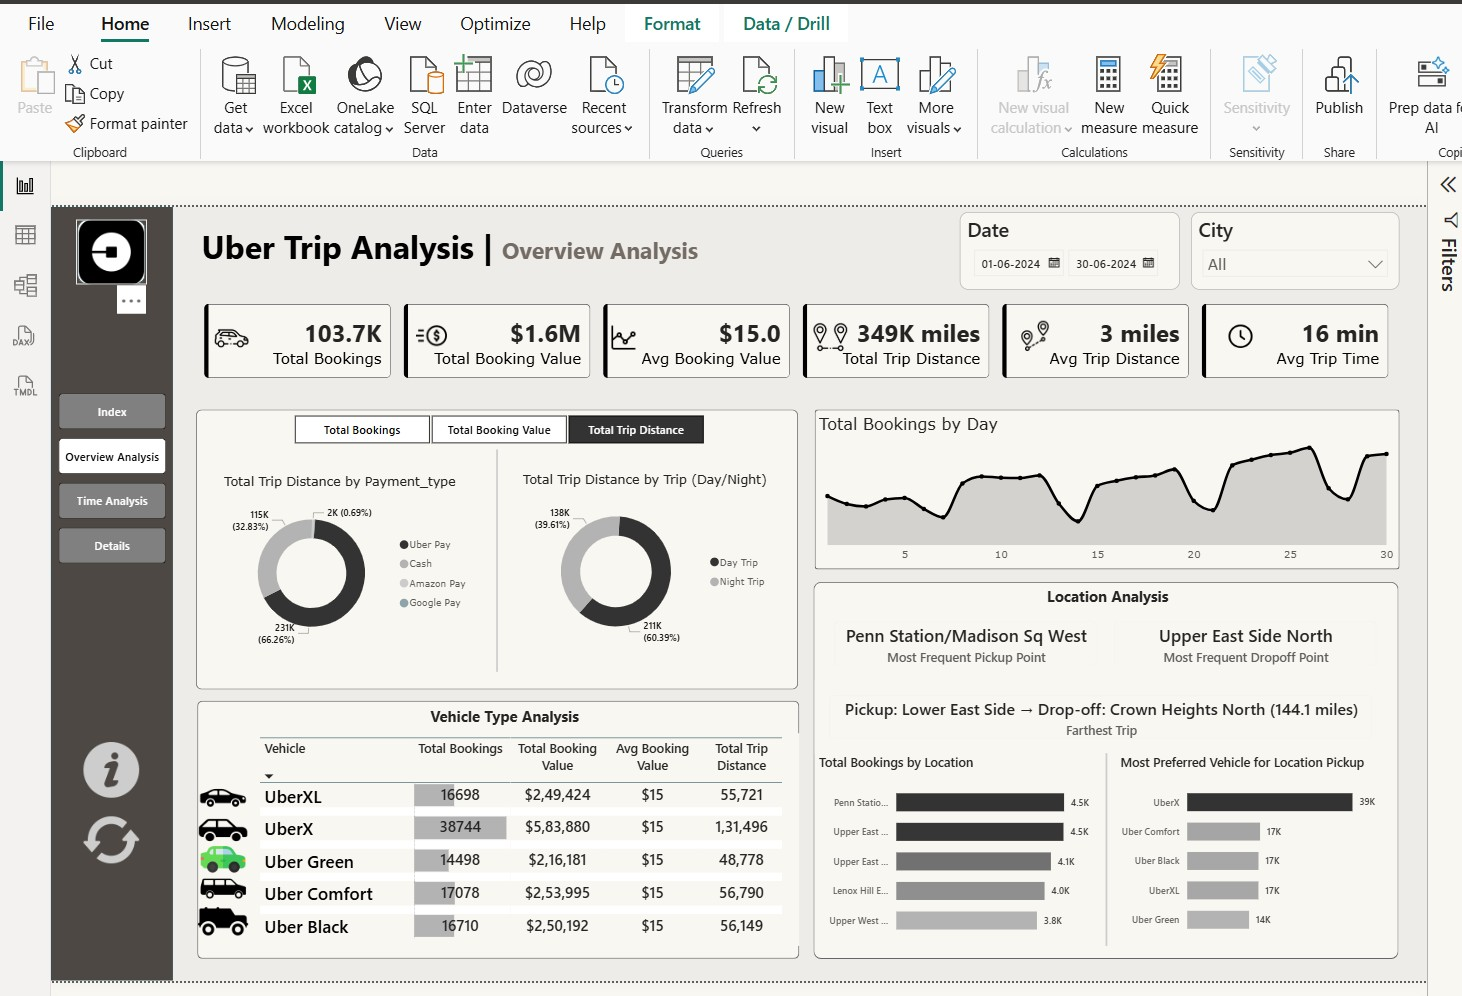

Layout of this report page (visuals, bound fields, positions):
{"tool":"powerbi","page":{"name":"Overview Analysis","canvas":[1600,900],"ordinal":1},"visuals":[{"type":"shape","box":[0,0,141.9,899.5],"z":0},{"type":"textbox","box":[170.1,16,613.4,79.9],"z":1000},{"type":"cardVisual","fields":{"Data":["Key Measures.Total Bookings","Key Measures.Total Booking Value","Key Measures.Avg Booking Amount","Key Measures.Total Trip Distance","Key Measures.Avg Trip Distance","Key Measures.Avg Trip Time"]},"box":[161.3,95.9,1415.7,120.6],"z":2000},{"type":"image","box":[424.4,123.5,36.3,52.3],"z":3000},{"type":"image","box":[886.6,122.1,39.2,58.1],"z":4000},{"type":"image","box":[1100.3,132.3,90.1,34.9],"z":5000},{"type":"image","box":[1369.2,127.9,27.6,45.1],"z":6000},{"type":"image","box":[649.7,129.4,32,45.1],"z":7000},{"type":"shape","box":[169,235.8,700,325.6],"z":8000},{"type":"image","box":[190.4,123.5,39.2,58.1],"z":9000},{"type":"slicer","fields":{"Values":["Dynamic Measure.Dynamic Measure"]},"box":[256.7,235.8,525.9,45.9],"z":10000},{"type":"donutChart","fields":{"Y":["Key Measures.Total Trip Distance Measure"],"Category":["Trip Details.Payment_type"]},"box":[196.2,308.9,300.5,215],"z":11000},{"type":"shape","box":[170,574,700,300],"z":12000},{"type":"donutChart","fields":{"Y":["Key Measures.Total Trip Distance Measure"],"Category":["Trip Details.Trip Type (Day/Night)"]},"box":[544.3,308.6,300,214],"z":13000},{"type":"pivotTable","fields":{"Rows":["Trip Details.Vehicle"],"Values":["Key Measures.Total Bookings","Key Measures.Total Booking Value","Key Measures.Avg Booking Value","Key Measures.Total Trip Distance Measure"]},"box":[238.4,611.9,632.3,247.1],"z":14000},{"type":"image","box":[170,656.7,60,60],"z":15000},{"type":"image","box":[170,695.3,60,58.9],"z":16000},{"type":"image","box":[170,732.8,60,52.2],"z":17000},{"type":"image","box":[170,763.6,60,58.9],"z":18000},{"type":"image","box":[170,801.1,60,58.9],"z":19000},{"type":"card","fields":{"Values":["Key Measures.Title for vehicle grid"]},"box":[275.5,573.9,503,39.7],"z":20000},{"type":"shape","box":[888,236,680,186],"z":21000},{"type":"areaChart","fields":{"Category":["Calendar Table.Date.Variation.Date Hierarchy.Day"],"Y":["Key Measures.Total Bookings"]},"box":[888.3,241.7,680,180],"z":22000},{"type":"shape","box":[887,436.2,680.3,438.3],"z":23000},{"type":"cardVisual","fields":{"Data":["Key Measures.Most Frequent Pickup Point","Key Measures.Most Frequent Dropoff Point"]},"box":[894.3,465.7,665.7,85.7],"z":24000},{"type":"cardVisual","fields":{"Data":["Key Measures.Farthest Trip"]},"box":[888.6,551.4,665.7,85],"z":25000},{"type":"barChart","fields":{"Category":["Location Table.Location"],"Y":["Key Measures.Total Bookings"]},"box":[888.1,635.2,328.5,225.3],"z":26000},{"type":"barChart","title":"Most Preferred Vehicle for Location Pickup","fields":{"Category":["Trip Details.Vehicle"],"Y":["CountNonNull(Trip Details.PULocationID)"]},"box":[1238.6,635.7,315.7,224.3],"z":27000},{"type":"shape","box":[504.3,281.4,28.6,258.6],"z":28000},{"type":"shape","box":[1217.1,635.7,21.4,224.3],"z":29000},{"type":"card","fields":{"Values":["Key Measures.Title for Location analysis"]},"box":[1100,435.7,257.1,37.1],"z":30000},{"type":"slicer","title":"Date","fields":{"Values":["Calendar Table.Date"]},"box":[1056.7,5.8,255.8,90.1],"z":31000},{"type":"slicer","title":"City","fields":{"Values":["Location Table.City"]},"box":[1325.6,5.8,242.7,90.1],"z":32000},{"type":"shape","box":[30.8,14.6,79.2,75.4],"z":33000},{"type":"image","box":[29.3,14.3,82.1,75.7],"z":34000},{"type":"pageNavigator","box":[8.3,217,125.2,200.3],"z":35000},{"type":"image","box":[14.6,621.9,110.6,64.7],"z":37000},{"type":"image","box":[14.6,703.3,110.6,64.7],"z":38000}]}

Visuals, with their boxes on the page's 1600x900 design canvas (x1, y1, x2, y2). These are canvas units, not pixel positions in the 1462x996 screenshot, which may show the page scaled, cropped or inside an application window:
shape: box=[0, 0, 142, 900]
textbox: box=[170, 16, 784, 96]
cardVisual - Key Measures.Total Bookings x Key Measures.Total Booking Value: box=[161, 96, 1577, 216]
image: box=[424, 124, 461, 176]
image: box=[887, 122, 926, 180]
image: box=[1100, 132, 1190, 167]
image: box=[1369, 128, 1397, 173]
image: box=[650, 129, 682, 174]
shape: box=[169, 236, 869, 561]
image: box=[190, 124, 230, 182]
slicer - Dynamic Measure.Dynamic Measure: box=[257, 236, 783, 282]
donutChart - Key Measures.Total Trip Distance Measure x Trip Details.Payment_type: box=[196, 309, 497, 524]
shape: box=[170, 574, 870, 874]
donutChart - Key Measures.Total Trip Distance Measure x Trip Details.Trip Type (Day/Night): box=[544, 309, 844, 523]
pivotTable - Trip Details.Vehicle x Key Measures.Total Bookings: box=[238, 612, 871, 859]
image: box=[170, 657, 230, 717]
image: box=[170, 695, 230, 754]
image: box=[170, 733, 230, 785]
image: box=[170, 764, 230, 822]
image: box=[170, 801, 230, 860]
card - Key Measures.Title for vehicle grid: box=[276, 574, 778, 614]
shape: box=[888, 236, 1568, 422]
areaChart - Calendar Table.Date.Variation.Date Hierarchy.Day x Key Measures.Total Bookings: box=[888, 242, 1568, 422]
shape: box=[887, 436, 1567, 874]
cardVisual - Key Measures.Most Frequent Pickup Point x Key Measures.Most Frequent Dropoff Point: box=[894, 466, 1560, 551]
cardVisual - Key Measures.Farthest Trip: box=[889, 551, 1554, 636]
barChart - Location Table.Location x Key Measures.Total Bookings: box=[888, 635, 1217, 860]
"Most Preferred Vehicle for Location Pickup" barChart: box=[1239, 636, 1554, 860]
shape: box=[504, 281, 533, 540]
shape: box=[1217, 636, 1238, 860]
card - Key Measures.Title for Location analysis: box=[1100, 436, 1357, 473]
"Date" slicer: box=[1057, 6, 1312, 96]
"City" slicer: box=[1326, 6, 1568, 96]
shape: box=[31, 15, 110, 90]
image: box=[29, 14, 111, 90]
pageNavigator: box=[8, 217, 134, 417]
image: box=[15, 622, 125, 687]
image: box=[15, 703, 125, 768]
